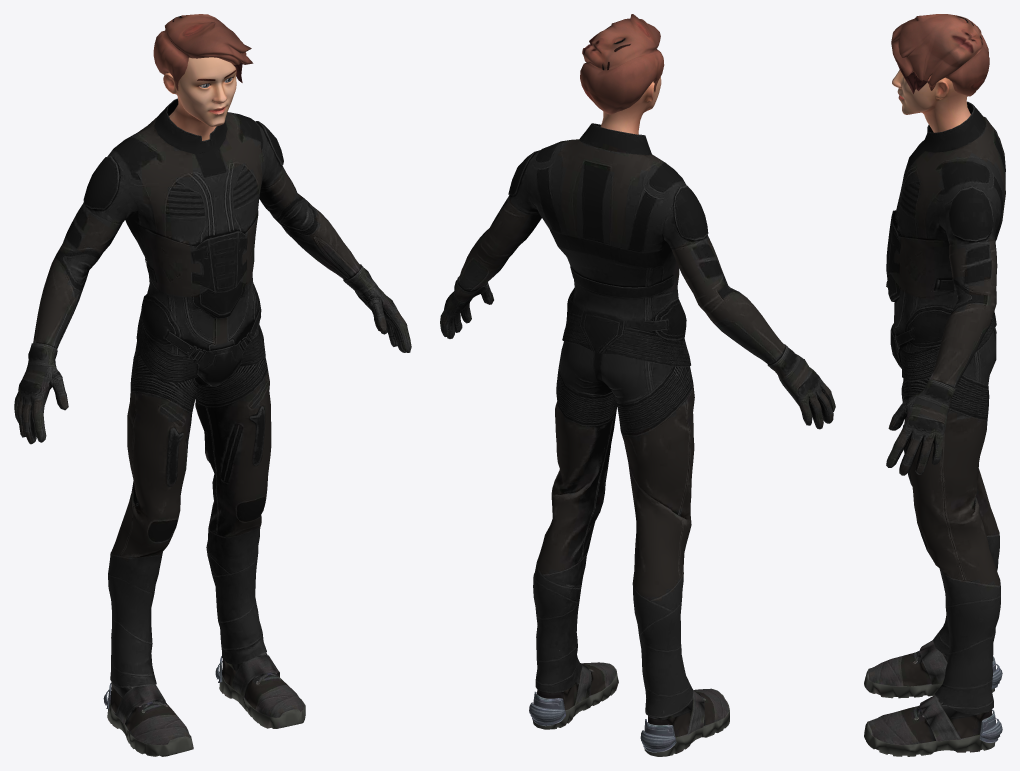
The model's file is Skinny_Character_Costume_1.glb.
3 views of the same model, side by side, from view 1: azimuth 30°, elevation 25°; view 2: azimuth 150°, elevation 25°; view 3: azimuth 270°, elevation 25° (orthographic).
Visible parts, largest first — view 1: Outfit_Top.001, Outfit_Top.002, Outfit_Top.004, Outfit_Top.003, Outfit_Bottom.013, Outfit_Bottom.010; view 2: Outfit_Top.001, Outfit_Top.002, Outfit_Bottom.013, Outfit_Top.004, Outfit_Top.003, Outfit_Bottom.010; view 3: Outfit_Top.001, Outfit_Top.002, Outfit_Bottom.013, Outfit_Top.003, Outfit_Top.004, Outfit_Bottom.010.
Boxes of the visible parts, x1,y1,x2,y2 form: Outfit_Top.001: [14, 98, 411, 444]; Outfit_Top.002: [108, 342, 271, 687]; Outfit_Top.004: [103, 681, 193, 756]; Outfit_Top.003: [215, 653, 305, 728]; Outfit_Bottom.013: [153, 14, 253, 90]; Outfit_Bottom.010: [163, 57, 236, 140]; Outfit_Top.001: [440, 123, 835, 429]; Outfit_Top.002: [533, 341, 694, 717]; Outfit_Bottom.013: [580, 14, 664, 114]; Outfit_Top.004: [640, 688, 729, 756]; Outfit_Top.003: [529, 650, 618, 729]; Outfit_Bottom.010: [600, 77, 661, 134]; Outfit_Top.001: [886, 101, 1005, 475]; Outfit_Top.002: [901, 328, 1000, 714]; Outfit_Bottom.013: [891, 14, 989, 96]; Outfit_Top.003: [864, 695, 1002, 756]; Outfit_Top.004: [864, 640, 1002, 698]; Outfit_Bottom.010: [892, 69, 970, 132].
Bounding box in the file's own units: 1.07 × 1.87 × 0.3423.
Materials: 6 (6 with a texture image).
